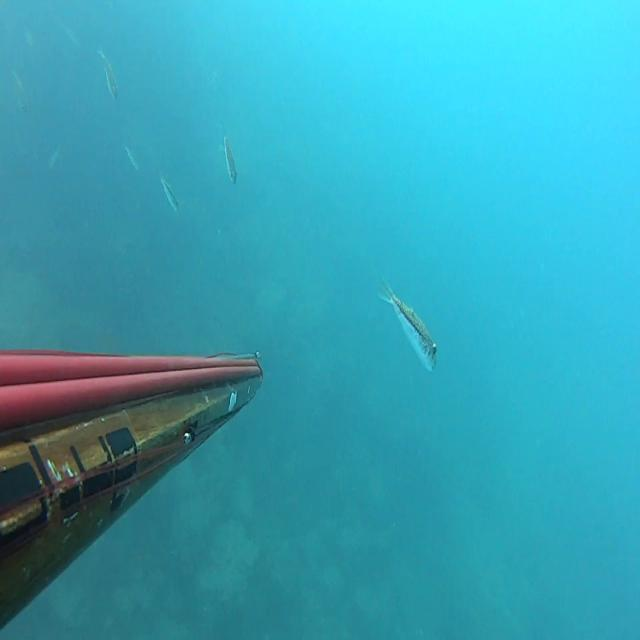Balon Baligi: (377, 277, 437, 372), (98, 49, 118, 99), (223, 131, 238, 185), (11, 69, 29, 112), (160, 175, 179, 211), (124, 144, 139, 170)
